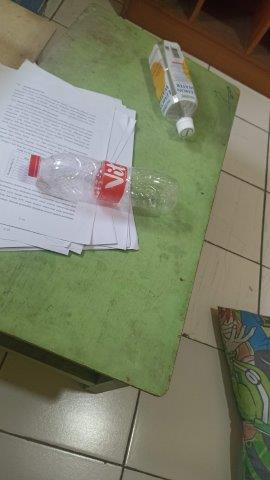botolplastik: (27, 155, 180, 218), (149, 41, 198, 144)
kertas: (3, 58, 142, 253)
